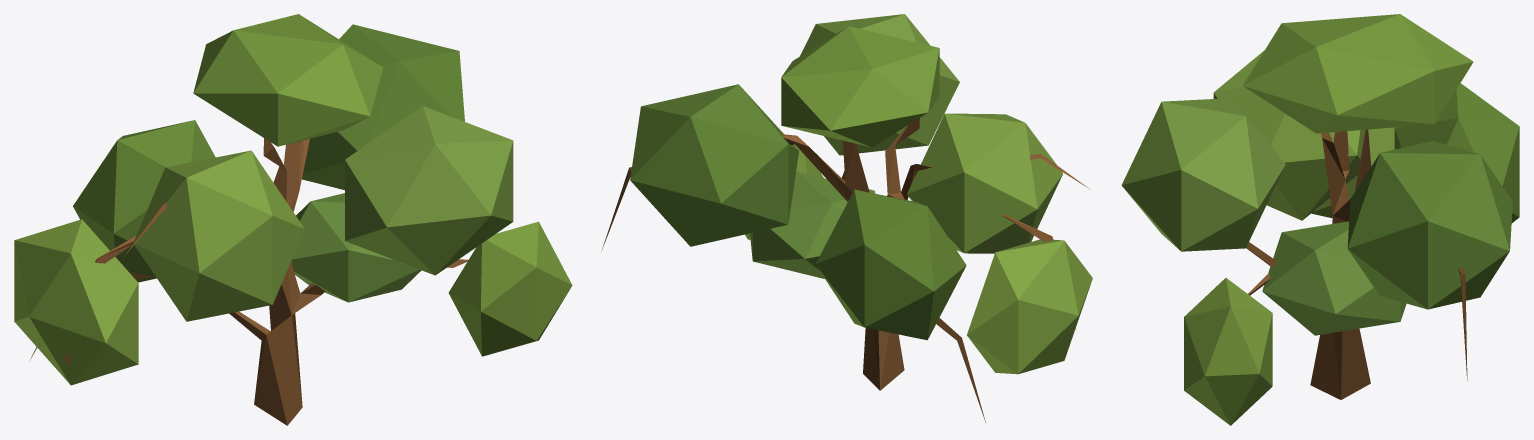
File: elm_2_bloom_far.glb
The picture shows the model from 3 angles, left to right: view 1: azimuth 30°, elevation 25°; view 2: azimuth 150°, elevation 25°; view 3: azimuth 270°, elevation 25°; orthographic projection. The views are drawn at different scales.
Visible parts, largest first — view 1: elm_2_bloom_far; view 2: elm_2_bloom_far; view 3: elm_2_bloom_far.
Part boxes in pixels (x1,y1,x2,y2): elm_2_bloom_far: [14, 14, 572, 425]; elm_2_bloom_far: [601, 14, 1092, 422]; elm_2_bloom_far: [1121, 14, 1519, 425].
Size of the model in its own units: 8.19 by 5.96 by 5.86.
